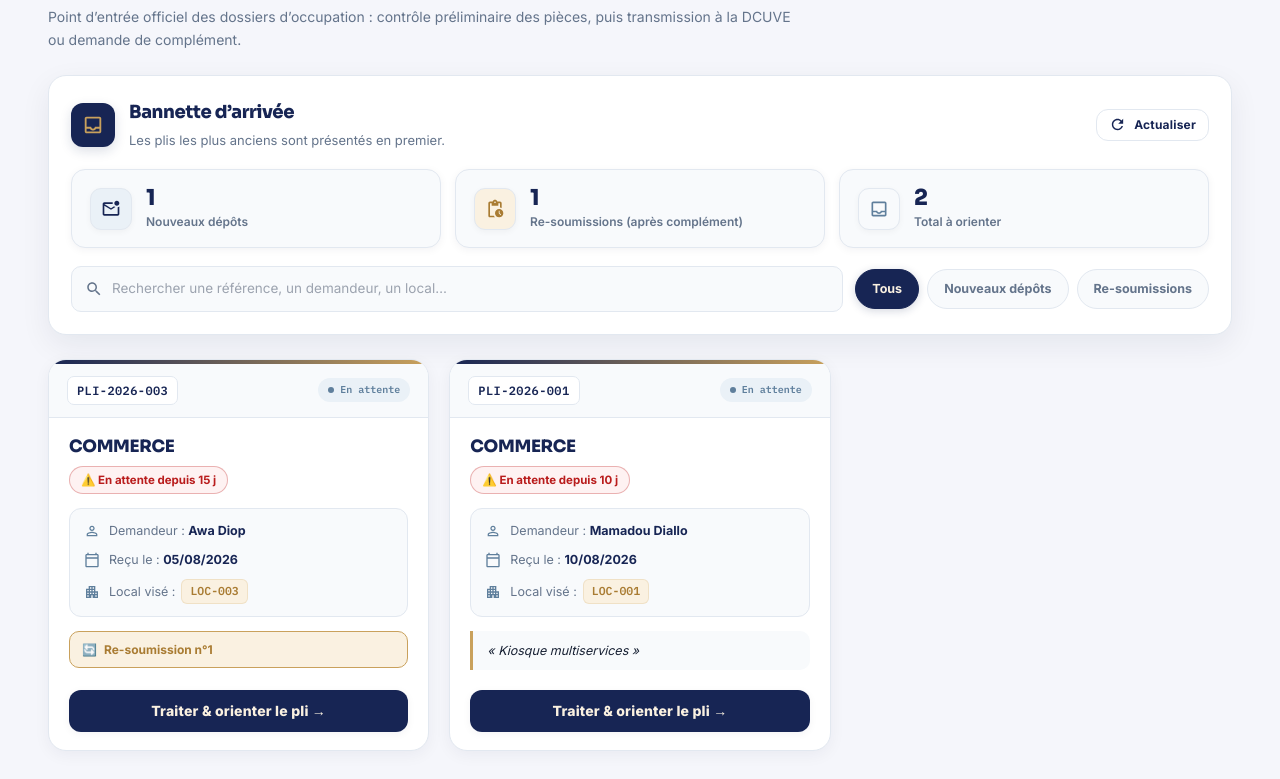
Test: BureauCourrierView › ouvre la modale et affiche les documents même si fichier ou libellé est null sans planter
The width and height of the screenshot is (1280, 779).
(page scrolled)
Check: the text "PLI-2026-001" is shown, box [468,376,580,405]
Click the button "Traiter & orienter le pli →" below "Kiosque multiservices" at (640, 711), box [470,690,810,732]
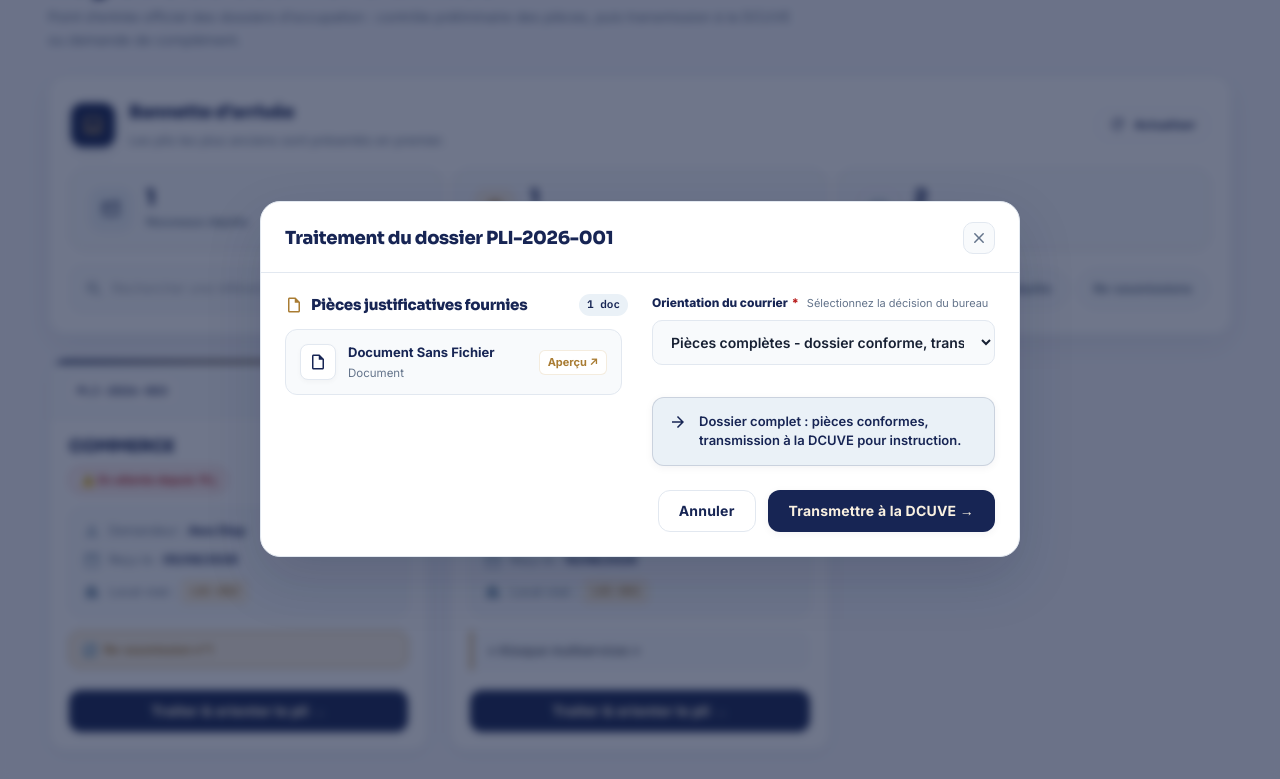
Check: the heading "Traitement du dossier PLI-2026-001" is shown, box [285,224,613,253]
Check: the text "Document Sans Fichier" is shown, box [348,344,495,360]
Check: the text "Document" is shown, box [348,366,404,380]
